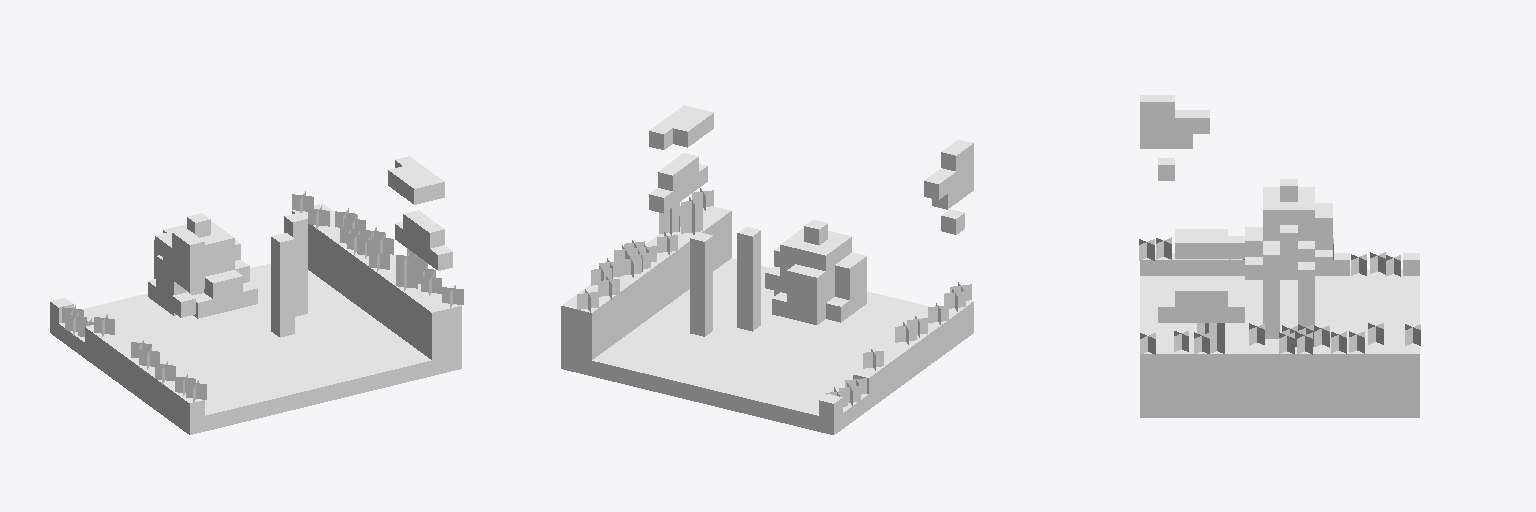
Rendered from Trees.obj.
The picture shows the model from 3 angles: view 1: azimuth 30°, elevation 25°; view 2: azimuth 150°, elevation 25°; view 3: azimuth 270°, elevation 25°; orthographic projection.
Visible parts, largest first — view 1: Trees__45_66_-103_to_62_319_-88; view 2: Trees__45_66_-103_to_62_319_-88; view 3: Trees__45_66_-103_to_62_319_-88.
Boxes of the visible parts, box(x1,y1,x2,y2) form: Trees__45_66_-103_to_62_319_-88: box(50, 156, 463, 434); Trees__45_66_-103_to_62_319_-88: box(561, 105, 973, 434); Trees__45_66_-103_to_62_319_-88: box(1139, 95, 1420, 417).
Bounding box in the file's own units: 18.23 × 12 × 16.14.